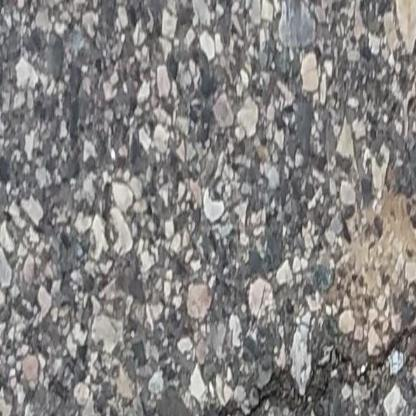Cracks: (178, 328, 416, 416)
